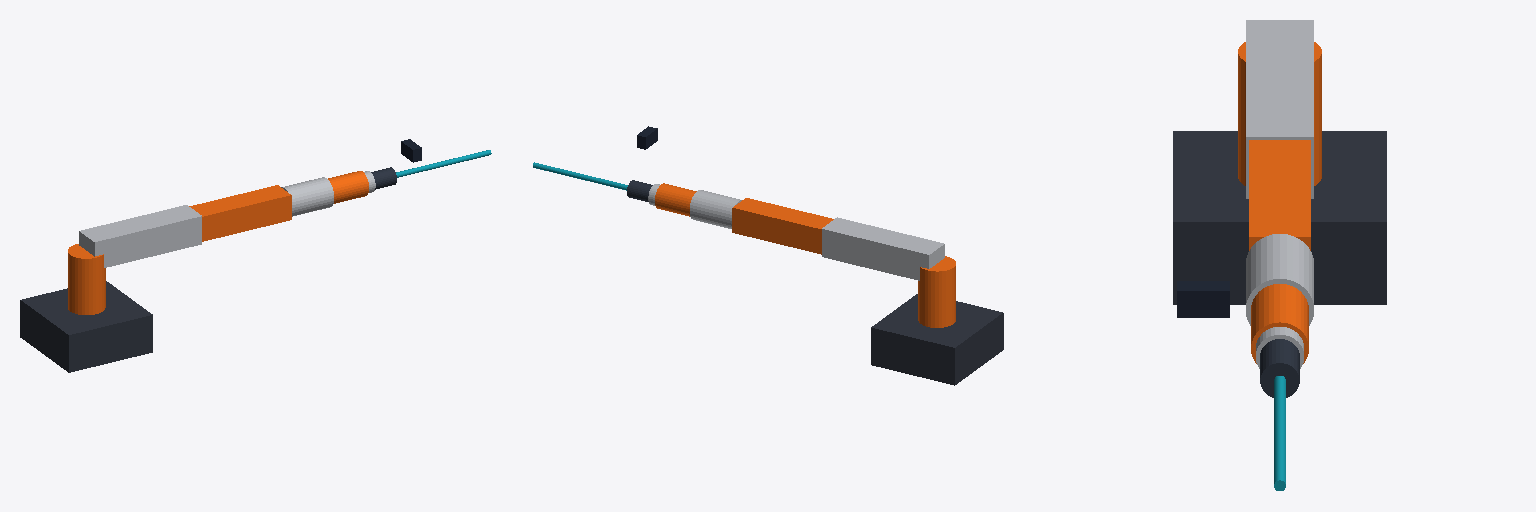
URDF robot description (switch_press_arm):
<?xml version='1.0' encoding='utf-8'?>
<robot name="switch_press_arm">
  <material name="graphite">
    <color rgba="0.23 0.25 0.29 1.0" />
  </material>
  <material name="silver">
    <color rgba="0.75 0.76 0.78 1.0" />
  </material>
  <material name="signal_orange">
    <color rgba="0.95 0.45 0.12 1.0" />
  </material>
  <material name="tool_blue">
    <color rgba="0.17 0.45 0.78 1.0" />
  </material>
  <material name="gripper_metal">
    <color rgba="0.16 0.18 0.22 1.0" />
  </material>
  <material name="gripper_pad">
    <color rgba="0.08 0.08 0.09 1.0" />
  </material>

  <link name="base_link">
    <visual>
      <origin xyz="0 0 0.06" rpy="0 0 0" />
      <geometry>
        <box size="0.28 0.28 0.12" />
      </geometry>
      <material name="graphite" />
    </visual>
    <collision>
      <origin xyz="0 0 0.06" rpy="0 0 0" />
      <geometry>
        <box size="0.28 0.28 0.12" />
      </geometry>
    </collision>
    <inertial>
      <origin xyz="0 0 0.06" rpy="0 0 0" />
      <mass value="8.0" />
      <inertia ixx="0.08" ixy="0.0" ixz="0.0" iyy="0.08" iyz="0.0" izz="0.08" />
    </inertial>
  </link>

  <link name="link_1">
    <visual>
      <origin xyz="0 0 0.09" rpy="0 0 0" />
      <geometry>
        <cylinder radius="0.055" length="0.18" />
      </geometry>
      <material name="signal_orange" />
    </visual>
    <collision>
      <origin xyz="0 0 0.09" rpy="0 0 0" />
      <geometry>
        <cylinder radius="0.055" length="0.18" />
      </geometry>
    </collision>
    <inertial>
      <origin xyz="0 0 0.09" rpy="0 0 0" />
      <mass value="3.0" />
      <inertia ixx="0.02" ixy="0.0" ixz="0.0" iyy="0.02" iyz="0.0" izz="0.01" />
    </inertial>
  </link>

  <joint name="joint_1" type="revolute">
    <parent link="base_link" />
    <child link="link_1" />
    <origin xyz="0 0 0.12" rpy="0 0 0" />
    <axis xyz="0 0 1" />
    <limit lower="-3.1416" upper="3.1416" effort="80.0" velocity="1.5" />
  </joint>

  <link name="link_2">
    <visual>
      <origin xyz="0.18 0 0" rpy="0 0 0" />
      <geometry>
        <box size="0.36 0.09 0.09" />
      </geometry>
      <material name="silver" />
    </visual>
    <collision>
      <origin xyz="0.18 0 0" rpy="0 0 0" />
      <geometry>
        <box size="0.36 0.09 0.09" />
      </geometry>
    </collision>
    <inertial>
      <origin xyz="0.18 0 0" rpy="0 0 0" />
      <mass value="4.0" />
      <inertia ixx="0.02" ixy="0.0" ixz="0.0" iyy="0.12" iyz="0.0" izz="0.12" />
    </inertial>
  </link>

  <joint name="joint_2" type="revolute">
    <parent link="link_1" />
    <child link="link_2" />
    <origin xyz="0 0 0.18" rpy="0 0 0" />
    <axis xyz="0 1 0" />
    <limit lower="-2.3562" upper="2.3562" effort="80.0" velocity="1.5" />
  </joint>

  <link name="link_3">
    <visual>
      <origin xyz="0.15 0 0" rpy="0 0 0" />
      <geometry>
        <box size="0.30 0.08 0.08" />
      </geometry>
      <material name="signal_orange" />
    </visual>
    <collision>
      <origin xyz="0.15 0 0" rpy="0 0 0" />
      <geometry>
        <box size="0.30 0.08 0.08" />
      </geometry>
    </collision>
    <inertial>
      <origin xyz="0.15 0 0" rpy="0 0 0" />
      <mass value="3.0" />
      <inertia ixx="0.015" ixy="0.0" ixz="0.0" iyy="0.08" iyz="0.0" izz="0.08" />
    </inertial>
  </link>

  <joint name="joint_3" type="revolute">
    <parent link="link_2" />
    <child link="link_3" />
    <origin xyz="0.36 0 0" rpy="0 0 0" />
    <axis xyz="0 1 0" />
    <limit lower="-2.7925" upper="2.7925" effort="60.0" velocity="1.8" />
  </joint>

  <link name="link_4">
    <visual>
      <origin xyz="0.07 0 0" rpy="0 1.5708 0" />
      <geometry>
        <cylinder radius="0.045" length="0.14" />
      </geometry>
      <material name="silver" />
    </visual>
    <collision>
      <origin xyz="0.07 0 0" rpy="0 1.5708 0" />
      <geometry>
        <cylinder radius="0.045" length="0.14" />
      </geometry>
    </collision>
    <inertial>
      <origin xyz="0.07 0 0" rpy="0 1.5708 0" />
      <mass value="1.5" />
      <inertia ixx="0.003" ixy="0.0" ixz="0.0" iyy="0.01" iyz="0.0" izz="0.01" />
    </inertial>
  </link>

  <joint name="joint_4" type="revolute">
    <parent link="link_3" />
    <child link="link_4" />
    <origin xyz="0.30 0 0" rpy="0 0 0" />
    <axis xyz="1 0 0" />
    <limit lower="-3.1416" upper="3.1416" effort="40.0" velocity="2.0" />
  </joint>

  <link name="link_5">
    <visual>
      <origin xyz="0.06 0 0" rpy="0 1.5708 0" />
      <geometry>
        <cylinder radius="0.038" length="0.12" />
      </geometry>
      <material name="signal_orange" />
    </visual>
    <collision>
      <origin xyz="0.06 0 0" rpy="0 1.5708 0" />
      <geometry>
        <cylinder radius="0.038" length="0.12" />
      </geometry>
    </collision>
    <inertial>
      <origin xyz="0.06 0 0" rpy="0 1.5708 0" />
      <mass value="1.0" />
      <inertia ixx="0.002" ixy="0.0" ixz="0.0" iyy="0.006" iyz="0.0" izz="0.006" />
    </inertial>
  </link>

  <joint name="joint_5" type="revolute">
    <parent link="link_4" />
    <child link="link_5" />
    <origin xyz="0.14 0 0" rpy="0 0 0" />
    <axis xyz="0 1 0" />
    <limit lower="-2.3562" upper="2.3562" effort="30.0" velocity="2.0" />
  </joint>

  <link name="link_6">
    
    <visual>
      <origin xyz="0.0125 0 0" rpy="0 1.5708 0" />
      <geometry>
        <cylinder radius="0.032" length="0.025" />
      </geometry>
      <material name="silver" />
    </visual>
    <collision>
      <origin xyz="0.0125 0 0" rpy="0 1.5708 0" />
      <geometry>
        <cylinder radius="0.032" length="0.025" />
      </geometry>
    </collision>
    <inertial>
      <origin xyz="0.05 0 0" rpy="0 1.5708 0" />
      <mass value="0.8" />
      <inertia ixx="0.0015" ixy="0.0" ixz="0.0" iyy="0.004" iyz="0.0" izz="0.004" />
    </inertial>
  </link>

  <joint name="joint_6" type="revolute">
    <parent link="link_5" />
    <child link="link_6" />
    <origin xyz="0.12 0 0" rpy="0 0 0" />
    <axis xyz="1 0 0" />
    <limit lower="-3.1416" upper="3.1416" effort="20.0" velocity="2.5" />
  </joint>

  <link name="tool0">
    
    <visual><origin xyz="-0.0375 0 0" rpy="0 1.5707963267948966 0" /><geometry><cylinder radius="0.026" length="0.075" /></geometry><material name="tool0"><color rgba="0.22 0.25 0.30 1" /></material></visual><collision><origin xyz="-0.0375 0 0" rpy="0 1.5707963267948966 0" /><geometry><cylinder radius="0.026" length="0.075" /></geometry></collision><inertial><origin xyz="-0.0375 0 0" rpy="0 0 0" /><mass value="0.3" /><inertia ixx="0.00010139999999999998" iyy="0.000191325" izz="0.000191325" ixy="0" ixz="0" iyz="0" /></inertial></link>

  <joint name="tool0_joint" type="fixed">
    <parent link="link_6" />
    <child link="tool0" />
    <origin xyz="0.10 0 0" rpy="0 0 0" />
  </joint>
<link name="press_rod"><visual><origin xyz="0.1625 0 0" rpy="0 1.5707963267948966 0" /><geometry><cylinder radius="0.008" length="0.325" /></geometry><material name="press_rod"><color rgba="0.12 0.65 0.72 1" /></material></visual><collision><origin xyz="0.1625 0 0" rpy="0 1.5707963267948966 0" /><geometry><cylinder radius="0.008" length="0.325" /></geometry></collision><inertial><origin xyz="0.1625 0 0" rpy="0 0 0" /><mass value="0.275" /><inertia ixx="8.8e-06" iyy="0.002424972916666667" izz="0.002424972916666667" ixy="0" ixz="0" iyz="0" /></inertial></link><joint name="press_rod_joint" type="fixed"><parent link="tool0" /><child link="press_rod" /><origin xyz="0 0 0" rpy="0 0 0" /></joint><link name="rod_tip" /><joint name="rod_tip_joint" type="fixed"><parent link="press_rod" /><child link="rod_tip" /><origin xyz="0.325 0 0" rpy="0 0 0" /></joint><link name="camera_optical_frame"><visual><origin xyz="0 0 -0.015" /><geometry><box size="0.07 0.04 0.03" /></geometry><material name="camera"><color rgba="0.15 0.18 0.24 1" /></material></visual><collision><origin xyz="0 0 -0.015" /><geometry><box size="0.07 0.04 0.03" /></geometry></collision><inertial><origin xyz="0 0 -0.015" /><mass value="0.12" /><inertia ixx="2.4999999999999994e-05" iyy="5.8e-05" izz="6.5e-05" ixy="0" ixz="0" iyz="0" /></inertial></link><joint name="camera_joint" type="fixed"><parent link="tool0" /><child link="camera_optical_frame" /><origin xyz="0.02 -0.1 0.12" rpy="-1.5707963267948966 0.0 -1.5707963267948966" /></joint></robot>

--- Render facts (derived) ---
3 views of the same robot in one strip: view 1: azimuth 30°, elevation 25°; view 2: azimuth 150°, elevation 25°; view 3: azimuth 270°, elevation 25° (orthographic).
Robot: switch_press_arm — 11 links, 10 joints (6 revolute, 4 fixed); root link base_link; default pose: every joint at zero.
Visible links, largest first — view 1: base_link, link_2, link_3, link_1, link_4, link_5, press_rod; view 2: base_link, link_2, link_3, link_1, link_4, link_5, press_rod; view 3: base_link, link_2, link_3, link_4, link_5, link_1, camera_optical_frame, tool0, press_rod, link_6.
Link boxes in pixels (x1,y1,x2,y2): base_link: (20, 281, 152, 372); link_2: (79, 205, 201, 267); link_3: (189, 185, 291, 241); link_1: (68, 244, 105, 314); link_4: (281, 177, 333, 216); link_5: (328, 171, 368, 203); press_rod: (396, 150, 491, 177); base_link: (871, 294, 1003, 385); link_2: (822, 217, 944, 280); link_3: (732, 198, 833, 254); link_1: (918, 256, 955, 327); link_4: (690, 190, 741, 228); link_5: (655, 183, 696, 216); press_rod: (533, 162, 627, 190); base_link: (1173, 131, 1386, 304); link_2: (1246, 20, 1313, 198); link_3: (1249, 140, 1310, 250); link_4: (1246, 234, 1313, 325); link_5: (1251, 284, 1308, 363); link_1: (1238, 42, 1321, 185); camera_optical_frame: (1177, 281, 1229, 317); tool0: (1260, 339, 1299, 397); press_rod: (1274, 376, 1285, 490); link_6: (1256, 327, 1303, 368).
Size in the robot's own frame: 1.49 by 0.28 by 0.44 metres.
Geometry: primitives only (box / cylinder / sphere), no mesh files.
